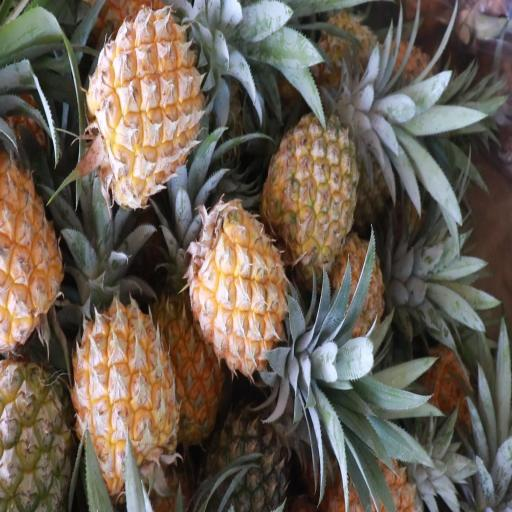------------------------------: (264, 106, 353, 271), (0, 356, 77, 512)
Pineapple - v8 v1: (92, 14, 207, 202), (76, 304, 174, 487), (191, 201, 289, 376), (0, 137, 66, 346), (156, 291, 225, 441)
